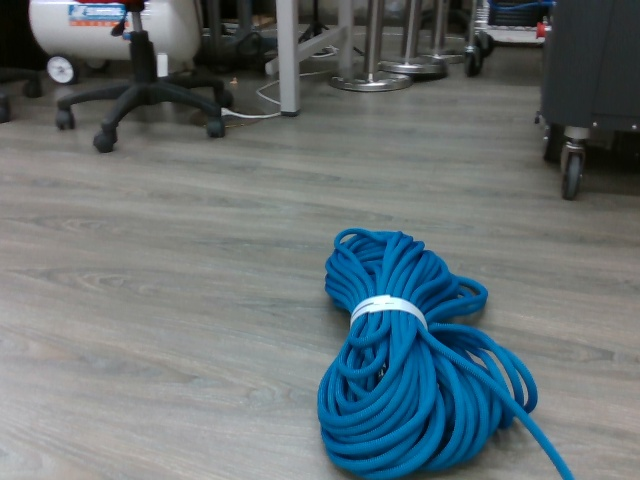rope: (316, 225, 579, 480)
